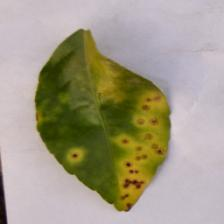canker: (99, 91, 178, 207)
